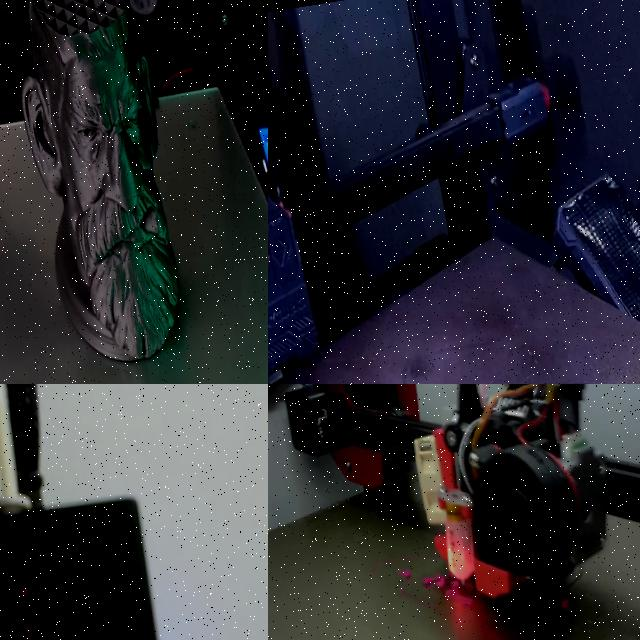spaghetti: (422, 573, 476, 606), (558, 597, 570, 616), (398, 570, 412, 580)
